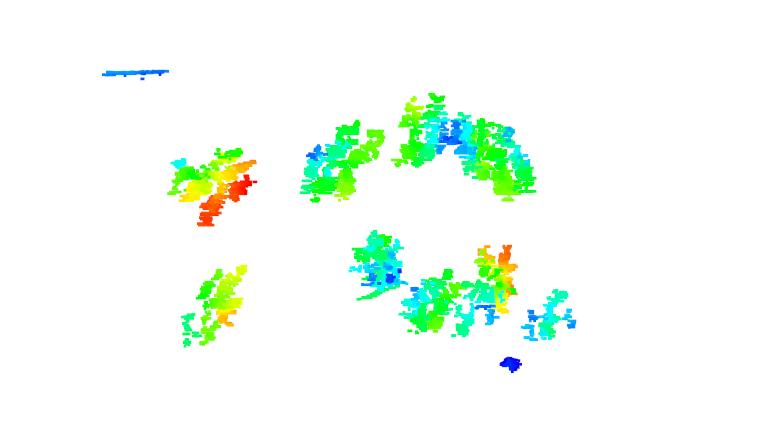chickpea: (343, 230, 459, 333), (450, 113, 541, 203), (298, 118, 390, 203), (167, 257, 247, 352), (167, 145, 259, 227), (453, 242, 526, 332), (398, 95, 452, 171), (517, 291, 580, 346)
